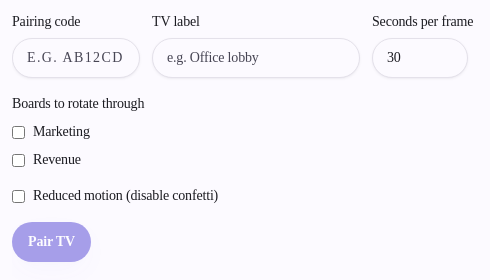
it: ClaimTvPairingForm › disables submit for a rotation interval outside the 5-600s server-enforced range
Step 1. Type "AB12CD" into the field labelled "Pairing code" → (76, 58), box [12,38,140,78]
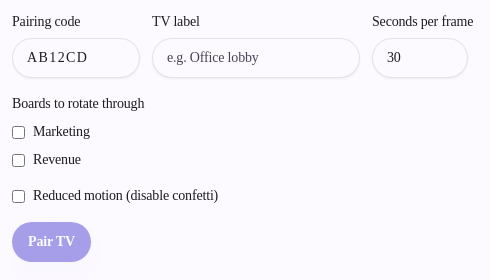
Step 2. Type "Office lobby" into the field labelled "TV label" → (256, 58), box [152,38,360,78]
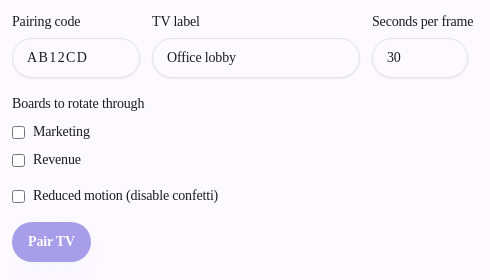
Step 3. Click the checkbox labelled "Marketing" → (18, 132), box [12,126,25,138]
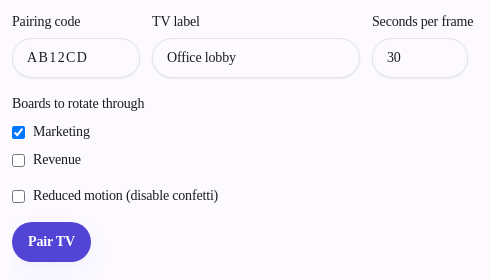
Check: the button "Pair TV" is enabled, box [12,222,91,262]
Step 4. Replace the text in the number field labelled "Seconds per frame" with "900" → (420, 58), box [372,38,468,78]
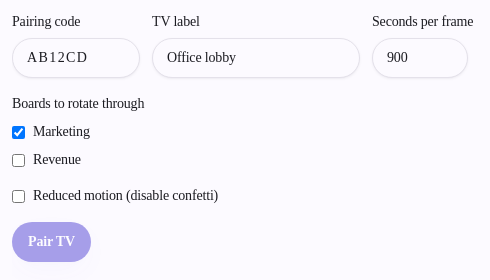
Check: the button "Pair TV" is disabled, box [12,222,91,262]
Step 5. Replace the text in the number field labelled "Seconds per frame" with "0" → (420, 58), box [372,38,468,78]
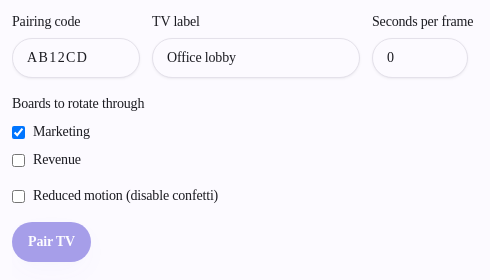
Check: the button "Pair TV" is disabled, box [12,222,91,262]
Step 6. Replace the text in the number field labelled "Seconds per frame" with "60" → (420, 58), box [372,38,468,78]
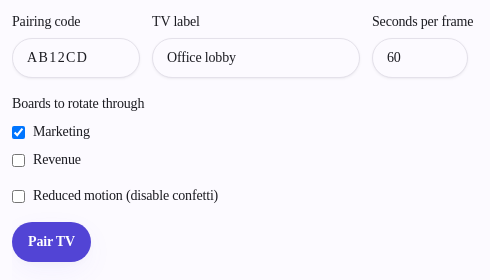
Check: the button "Pair TV" is enabled, box [12,222,91,262]
